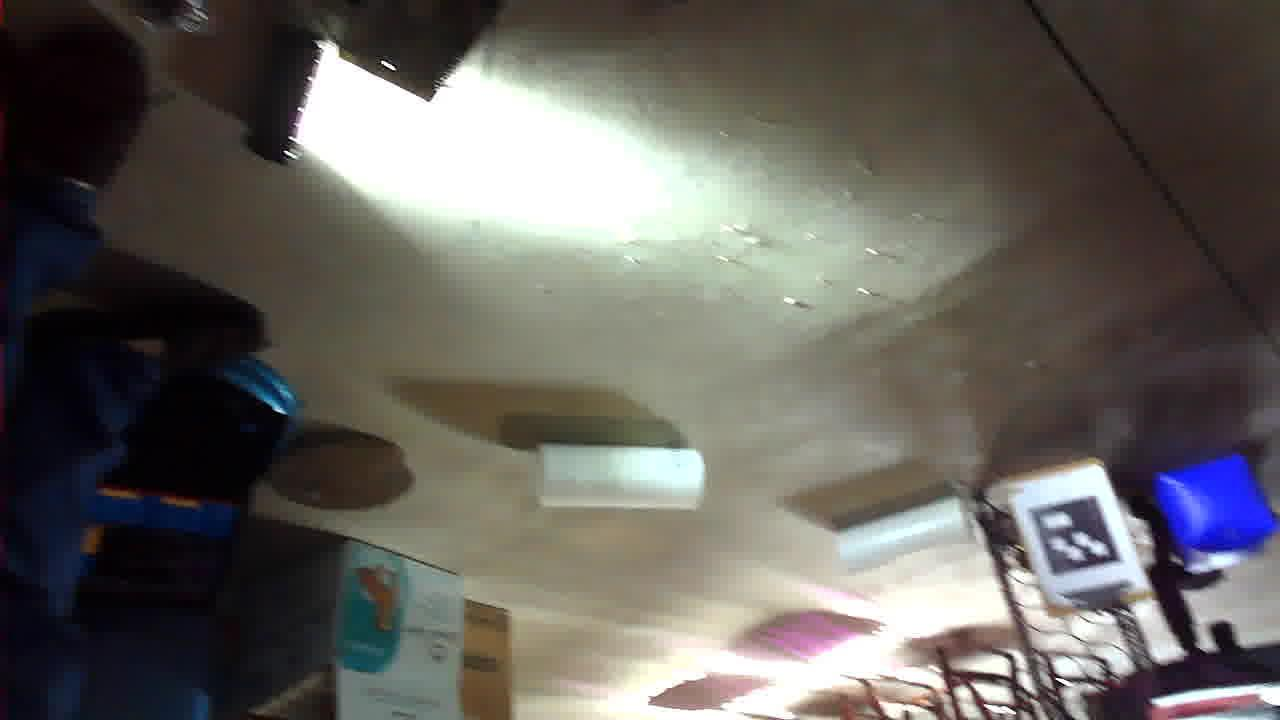coral: (579, 212, 739, 276), (314, 150, 443, 222)
